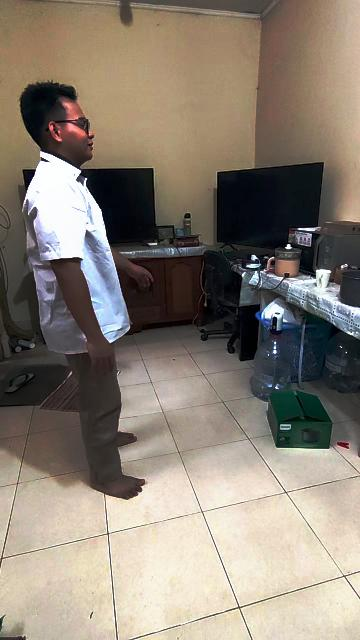berdiri: (13, 76, 157, 504)
